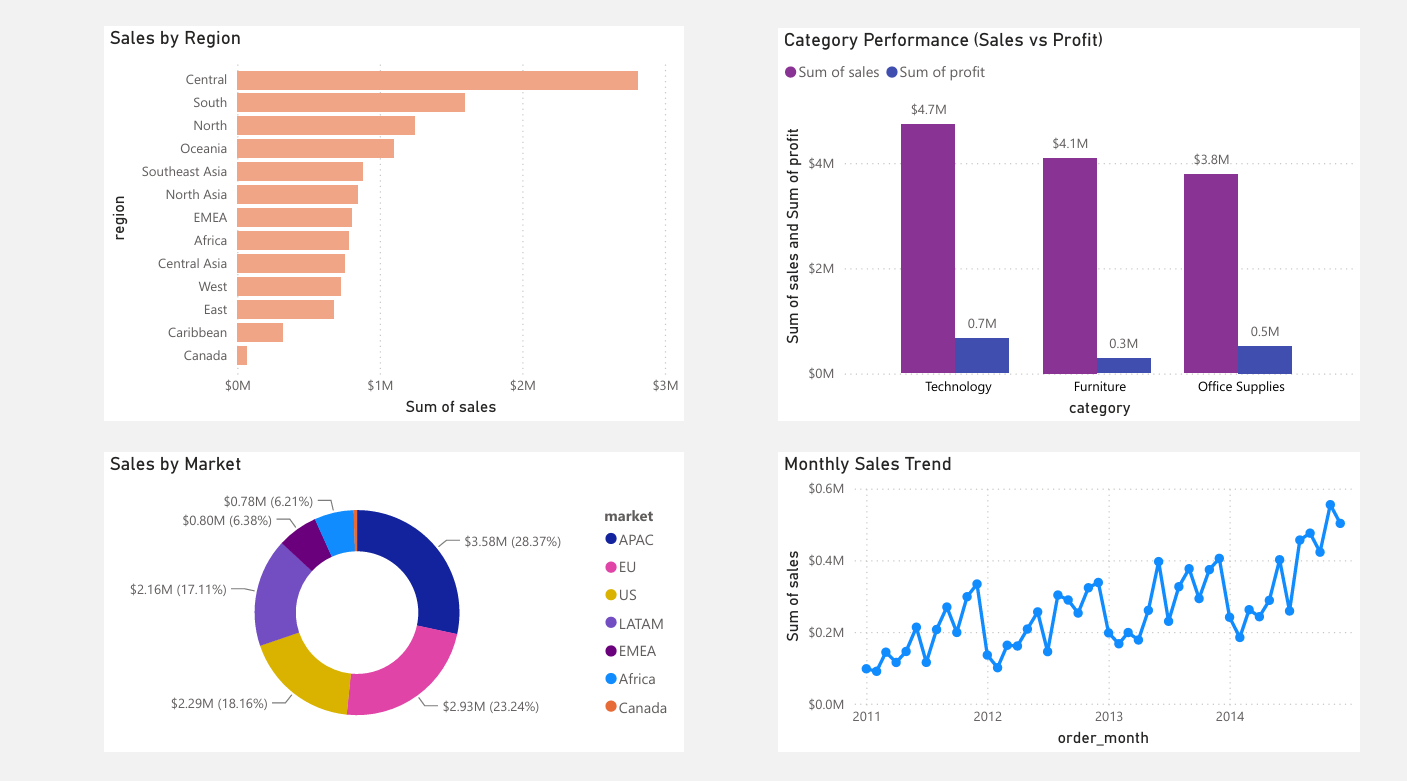

Layout of this report page (visuals, bound fields, positions):
{"tool":"powerbi","page":{"name":"Page 2","canvas":[1280,720],"ordinal":1},"visuals":[{"type":"clusteredBarChart","title":"Sales by Region","fields":{"Category":["dataanlystdata.region"],"Y":["Sum(dataanlystdata.sales)"]},"box":[96,30,526,358],"z":0},{"type":"donutChart","title":"Sales by Market","fields":{"Category":["dataanlystdata.market"],"Y":["Sum(dataanlystdata.sales)"]},"box":[96,416,526,272],"z":1000},{"type":"lineChart","title":"Monthly Sales Trend","fields":{"Y":["Sum(dataanlystdata.sales)"],"Category":["dataanlystdata.order_month "]},"box":[708,416,528,272],"z":2000},{"type":"clusteredColumnChart","title":"Category Performance (Sales vs Profit)","fields":{"Category":["dataanlystdata.category"],"Y":["Sum(dataanlystdata.sales)","Sum(dataanlystdata.profit)"]},"box":[708,32,528,356],"z":3000}]}

Visuals, with their boxes in screenshot pixels (x1, y1, x2, y2), scaled from the page's 1280x720 canvas onto the 1407x781 screenshot:
"Sales by Region" clusteredBarChart: select_region(106, 33, 684, 421)
"Sales by Market" donutChart: select_region(106, 451, 684, 746)
"Monthly Sales Trend" lineChart: select_region(778, 451, 1359, 746)
"Category Performance (Sales vs Profit)" clusteredColumnChart: select_region(778, 35, 1359, 421)
